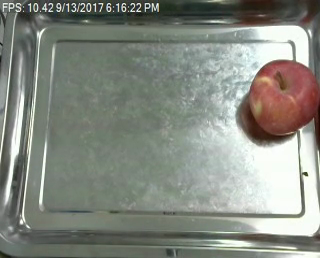Apple: (246, 58, 320, 138)
